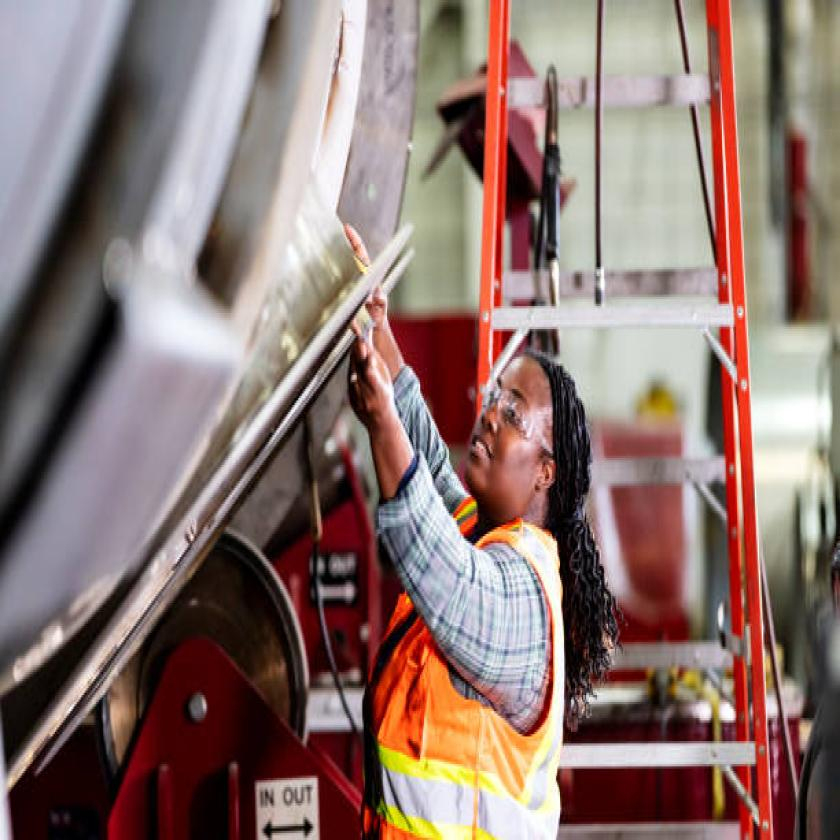Sin_casco: (462, 348, 587, 536)
